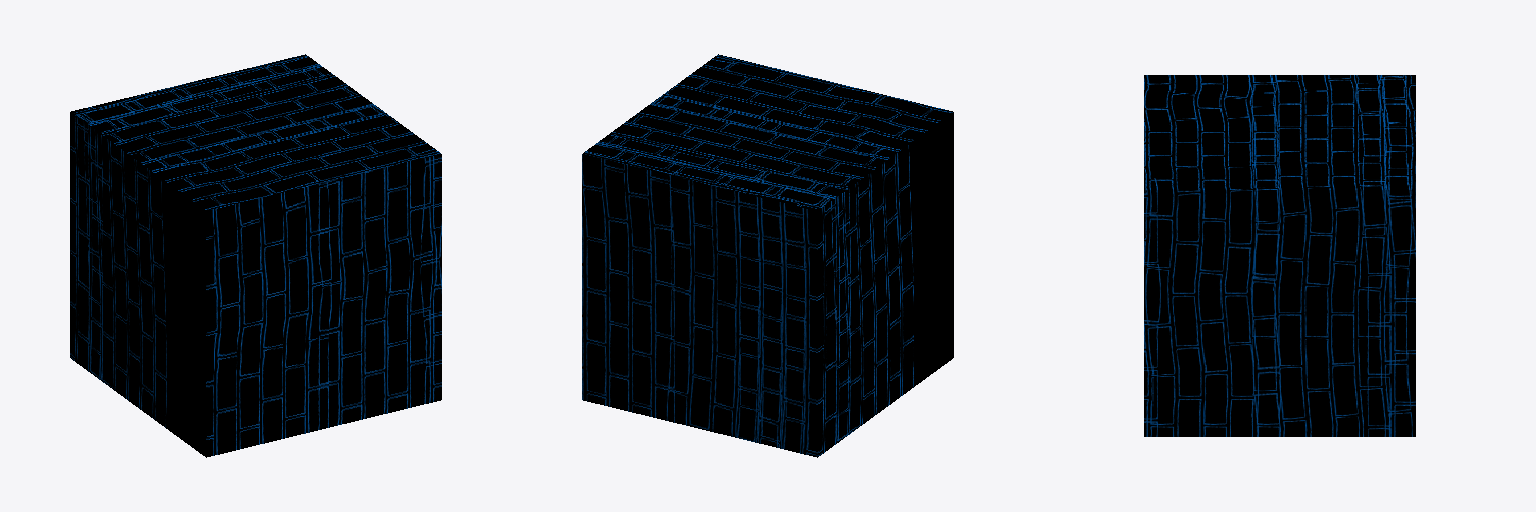
The picture shows the model from 3 angles: view 1: azimuth 30°, elevation 25°; view 2: azimuth 150°, elevation 25°; view 3: azimuth 270°, elevation 25°; orthographic projection.
Parts seen in each view (by area): view 1: Cube; view 2: Cube; view 3: Cube.
Part boxes in pixels (x1,y1,x2,y2): Cube: (70,54,441,457); Cube: (582,54,953,457); Cube: (1144,75,1415,436).
Size of the model in its own units: 1 by 1 by 1.
Materials: 1 (1 with a texture image).